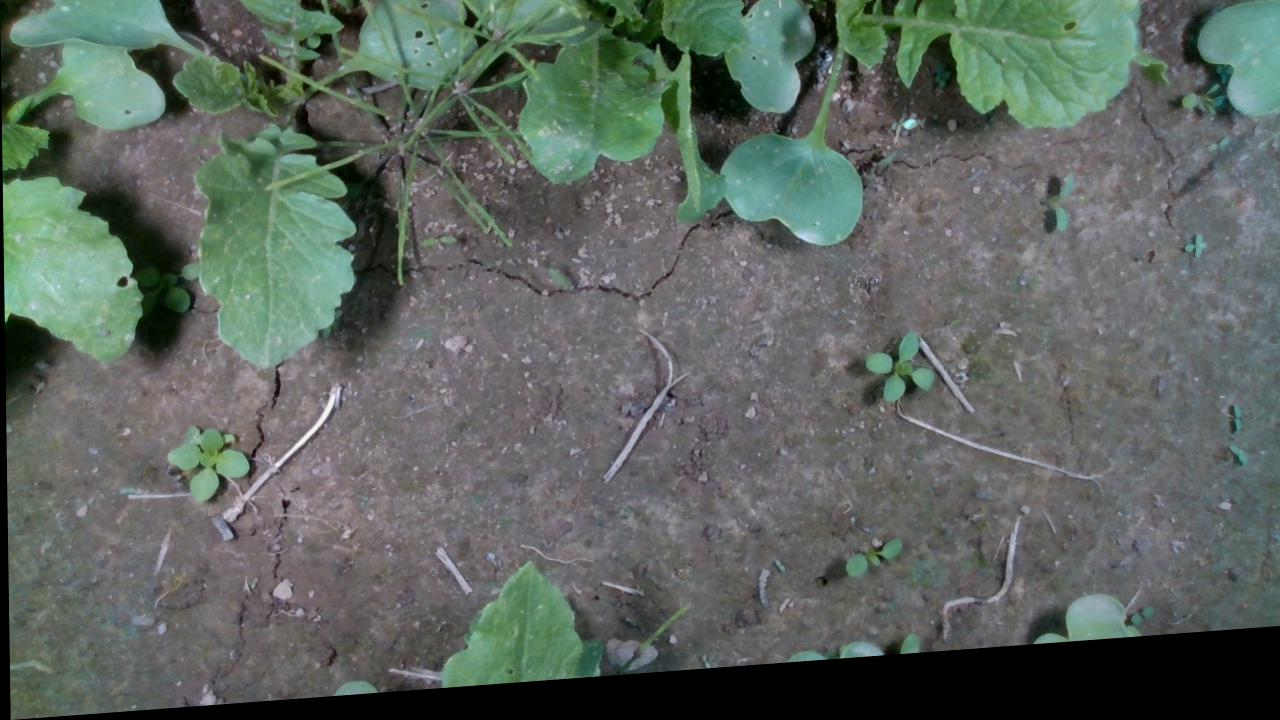weed: (853, 340, 944, 422)
